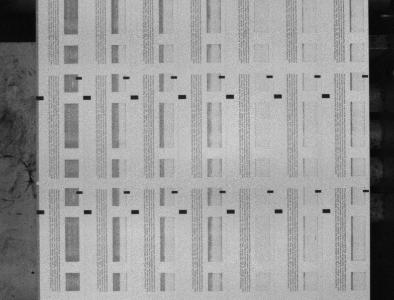backgroundclutter: (31, 271, 35, 274)
qblock: (178, 94, 187, 99), (226, 94, 235, 99), (179, 209, 187, 214), (227, 209, 235, 214), (83, 95, 91, 100), (36, 210, 45, 214), (131, 210, 140, 214), (130, 95, 139, 99), (275, 209, 283, 213), (84, 210, 92, 214), (323, 209, 331, 213), (274, 94, 282, 98), (36, 96, 44, 100), (322, 94, 330, 98)
smallqblock: (75, 76, 82, 80), (219, 75, 225, 79), (76, 191, 83, 194), (363, 189, 370, 192), (315, 189, 322, 192), (267, 190, 274, 193), (171, 76, 178, 79), (123, 76, 130, 79), (362, 75, 369, 78), (220, 190, 226, 193), (124, 191, 130, 194), (172, 190, 178, 193), (267, 75, 273, 78), (315, 75, 321, 78)
